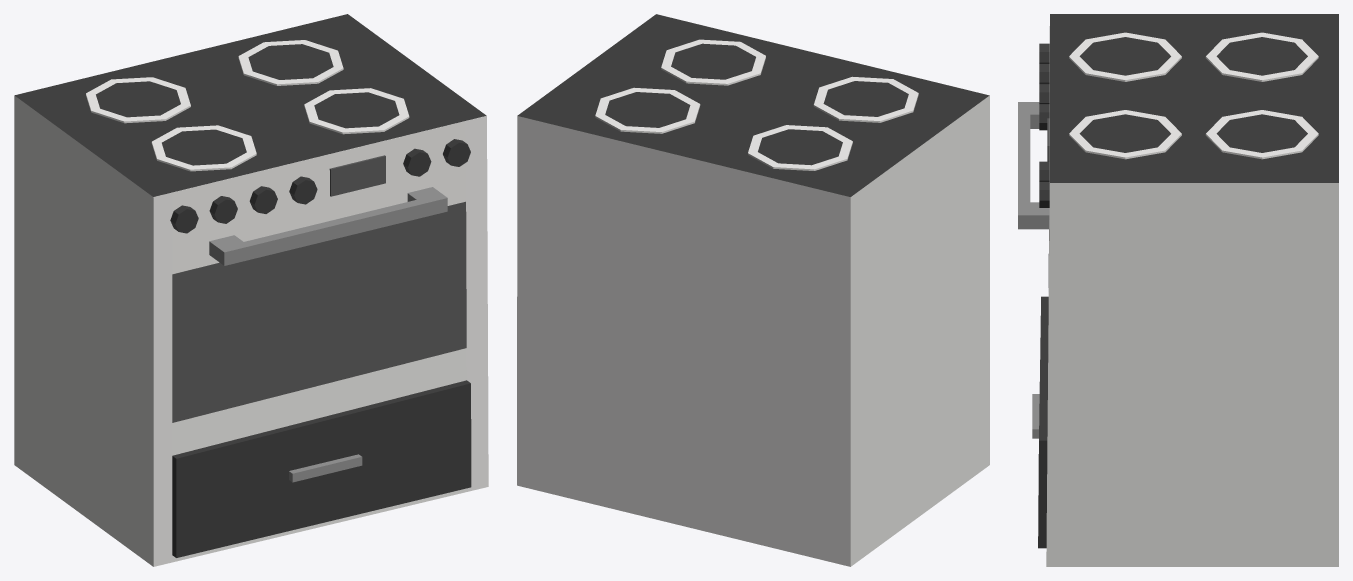
Rendered from Stove_2.fbx.
3 views of the same model, side by side, from view 1: azimuth 30°, elevation 25°; view 2: azimuth 150°, elevation 25°; view 3: azimuth 270°, elevation 25° (orthographic). The views are drawn at different scales.
Parts seen in each view (by area): view 1: Stove_2; view 2: Stove_2; view 3: Stove_2.
Part boxes in pixels (bbox=[...]): Stove_2: bbox=[14, 14, 488, 566]; Stove_2: bbox=[517, 14, 989, 566]; Stove_2: bbox=[1018, 14, 1338, 566].
Size of the model in its own units: 122 by 97.98 by 130.
